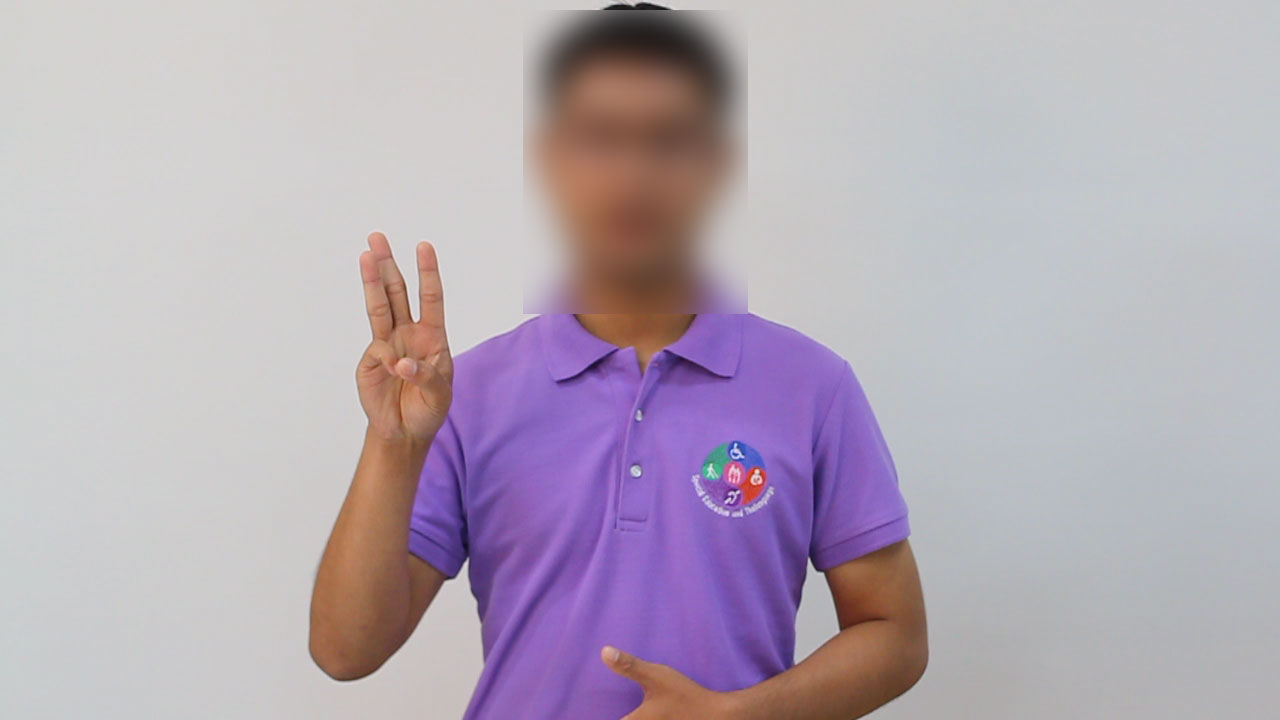wor: (343, 223, 464, 459)
